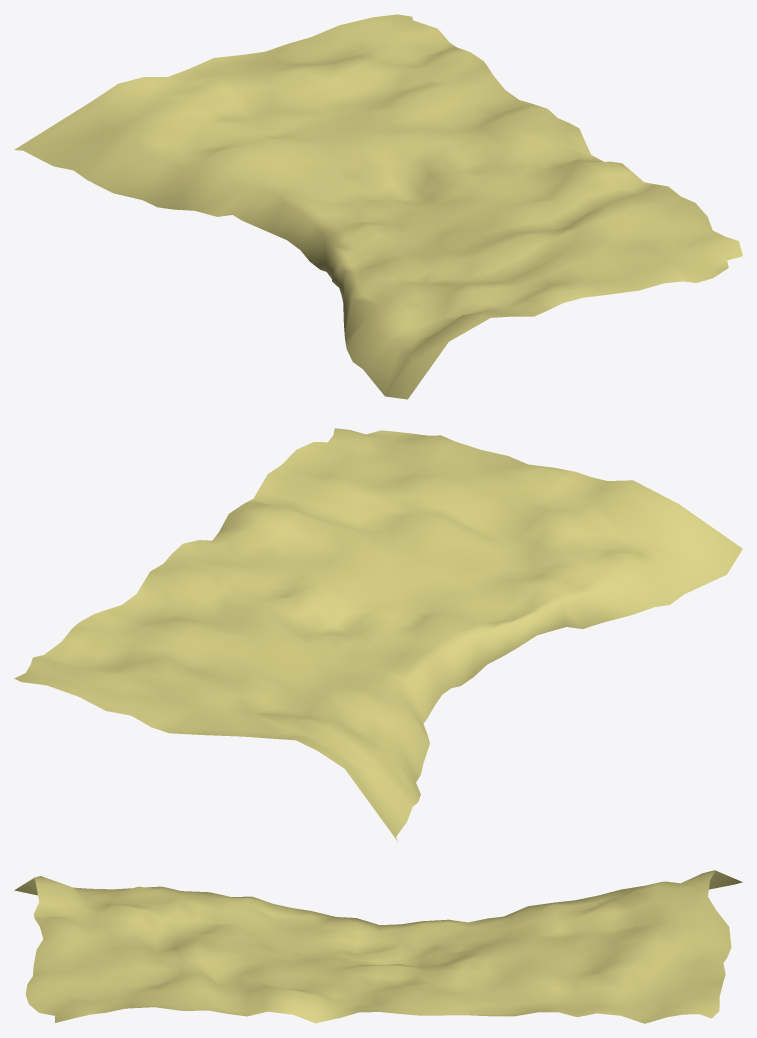
The model's file is Sand.fbx.
3 renders of one model, top to bottom at view 1: azimuth 30°, elevation 25°; view 2: azimuth 150°, elevation 25°; view 3: azimuth 270°, elevation 25°, orthographic. The views are drawn at different scales.
Parts seen in each view (by area): view 1: SAND; view 2: SAND; view 3: SAND.
Boxes of the visible parts, left/top/right/bottom form: SAND: left=14, top=14, right=742, bottom=399; SAND: left=14, top=428, right=742, bottom=841; SAND: left=14, top=870, right=742, bottom=1023.
Size of the model in its own units: 8129 by 1536 by 12974.
